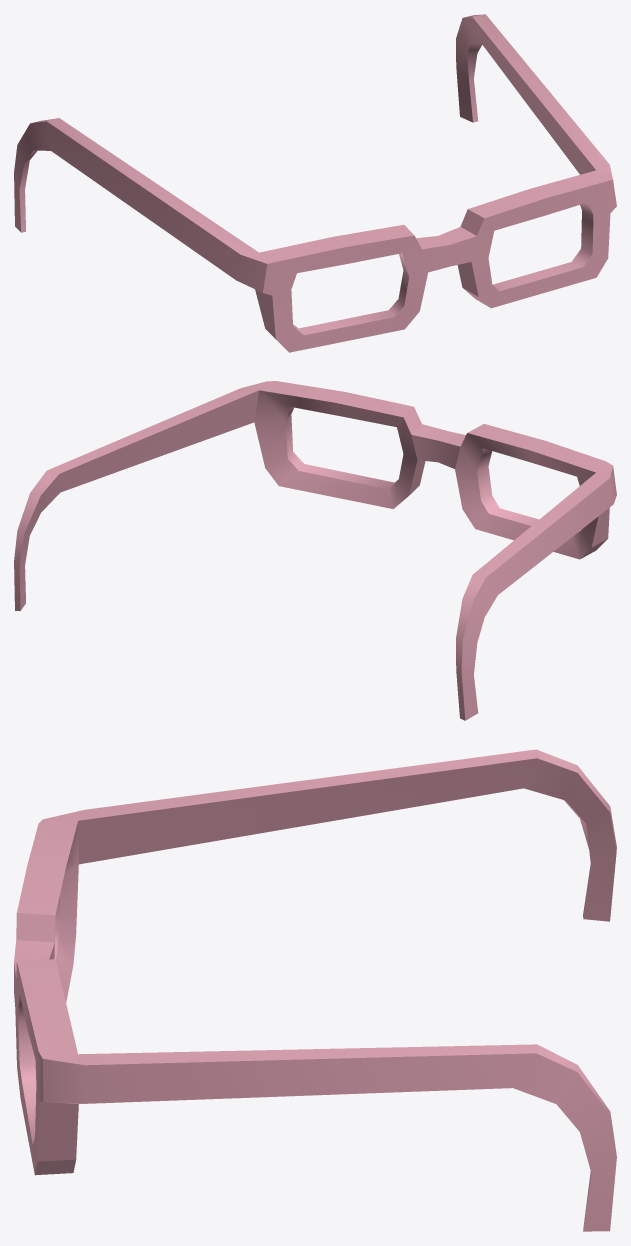
File: Glasses.fbx
3 views of the same model, one above another, from view 1: azimuth 30°, elevation 25°; view 2: azimuth 150°, elevation 25°; view 3: azimuth 270°, elevation 25° (orthographic). The views are drawn at different scales.
Visible parts, largest first — view 1: Glasses; view 2: Glasses; view 3: Glasses.
Boxes of the visible parts, bbox=[...] form: Glasses: bbox=[14, 14, 616, 352]; Glasses: bbox=[14, 381, 616, 720]; Glasses: bbox=[14, 749, 616, 1231].
Bounding box in the file's own units: 23.66 × 6.07 × 19.06.
